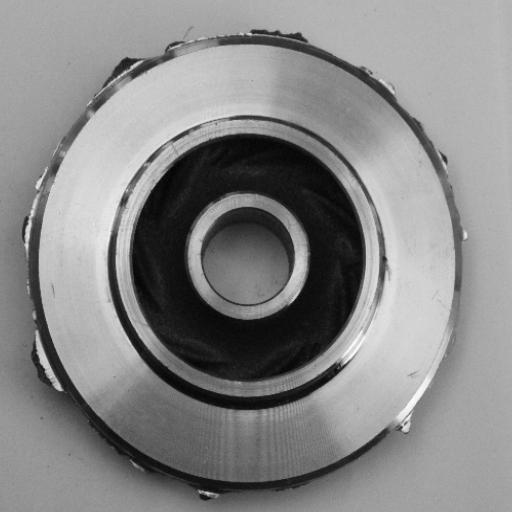casting_with_burr: (19, 28, 467, 502)
scratch: (327, 267, 402, 388)
